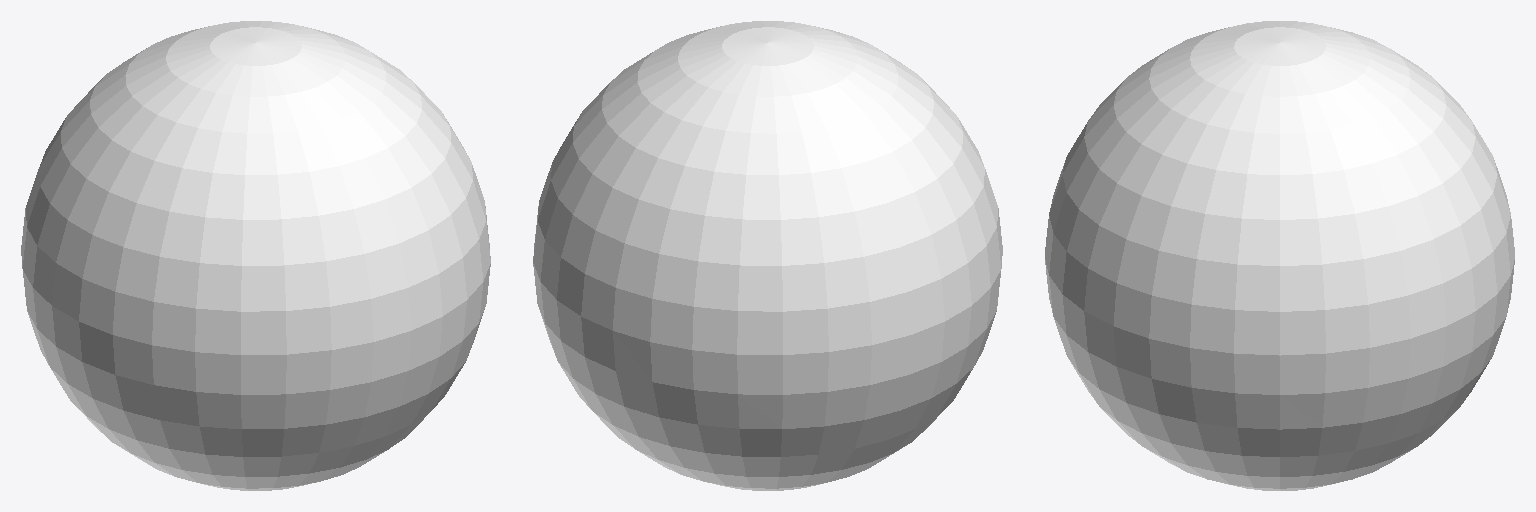
The model's file is ball0.obj.
3 renders of one model, left to right at view 1: azimuth 30°, elevation 25°; view 2: azimuth 150°, elevation 25°; view 3: azimuth 270°, elevation 25°, orthographic.
Visible parts, largest first — view 1: Sphere008; view 2: Sphere008; view 3: Sphere008.
Boxes of the visible parts, <box> form: Sphere008: <box>21,21,490,490</box>; Sphere008: <box>533,21,1002,490</box>; Sphere008: <box>1045,21,1514,490</box>.
Bounding box in the file's own units: 12 × 12 × 12.